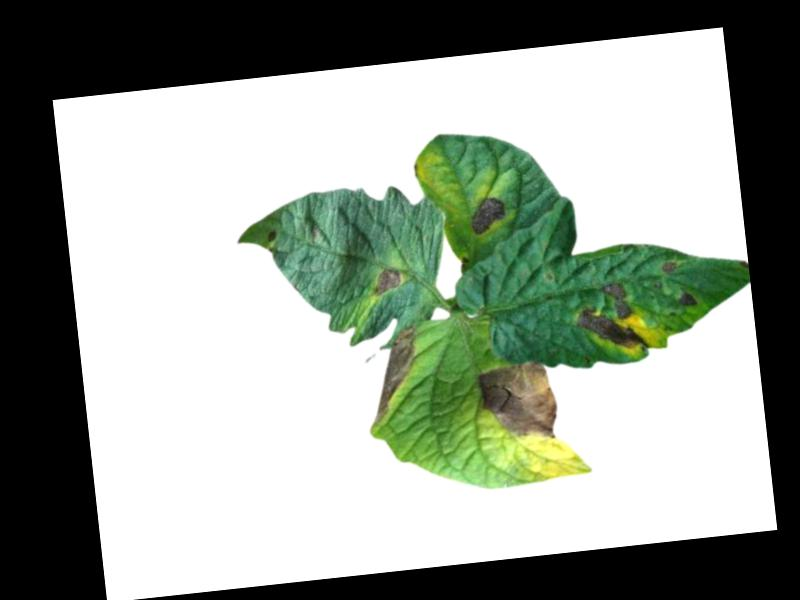Early_blight: (358, 324, 425, 429), (483, 356, 561, 445), (571, 277, 652, 356), (465, 195, 508, 236), (371, 265, 402, 295), (675, 288, 698, 310), (659, 257, 678, 274), (266, 227, 277, 242)
